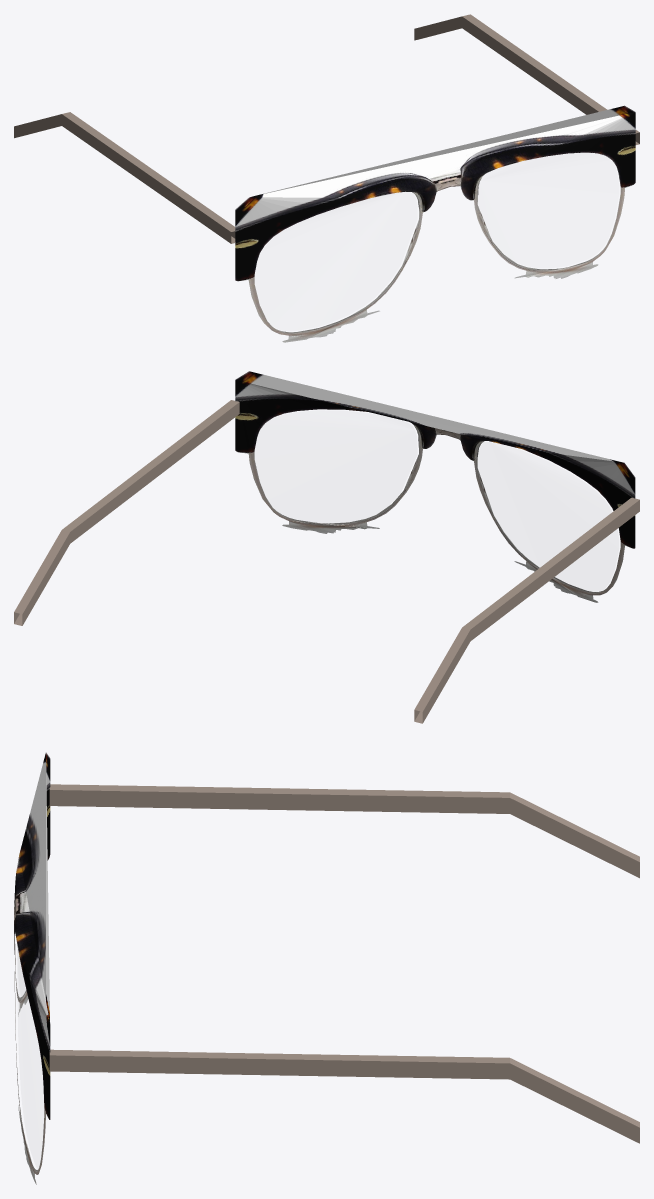
File: times-square-kingpin_black-gunmetal.glb
The picture shows the model from 3 angles, top to bottom: view 1: azimuth 30°, elevation 25°; view 2: azimuth 150°, elevation 25°; view 3: azimuth 270°, elevation 25°; orthographic projection. The views are drawn at different scales.
Visible parts, largest first — view 1: frame_front, temple_viewer_left, temple_viewer_right; view 2: frame_front, temple_viewer_right, temple_viewer_left; view 3: temple_viewer_right, temple_viewer_left, frame_front.
Boxes of the visible parts, x1,y1,x2,y2 form: frame_front: [235, 105, 635, 342]; temple_viewer_left: [14, 112, 236, 243]; temple_viewer_right: [414, 14, 639, 145]; frame_front: [235, 371, 635, 602]; temple_viewer_right: [14, 400, 239, 625]; temple_viewer_left: [414, 497, 639, 723]; temple_viewer_right: [49, 1049, 639, 1143]; temple_viewer_left: [49, 784, 639, 878]; frame_front: [14, 752, 50, 1184].
Bounding box in the file's own units: 0.1445 × 0.051 × 0.141.
3 materials, 2 textured.
